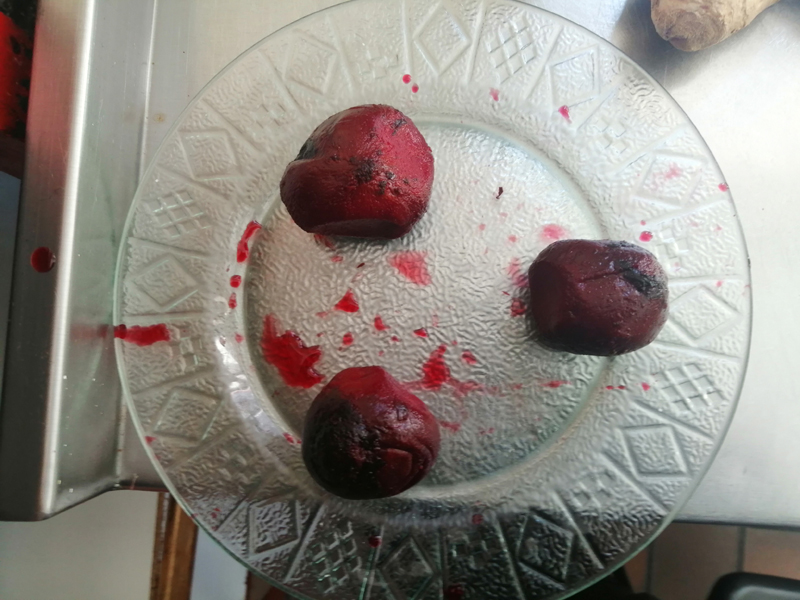beet: (278, 96, 439, 249), (294, 345, 445, 504), (525, 224, 676, 371)
